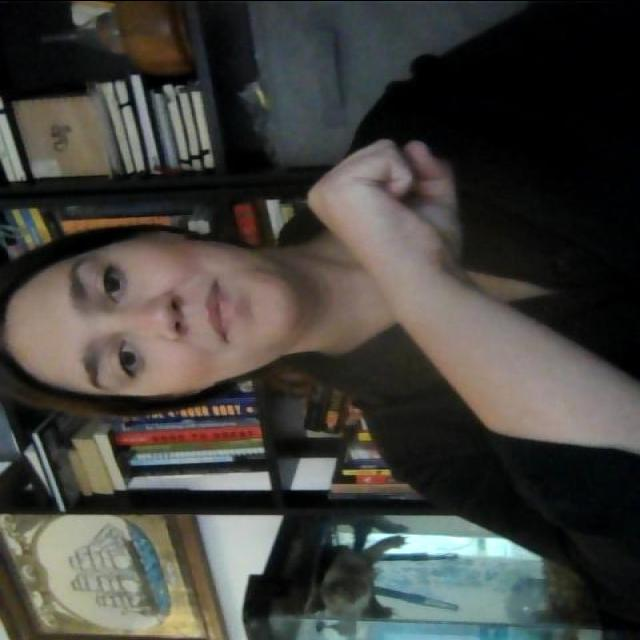Rock: (296, 114, 482, 288)
